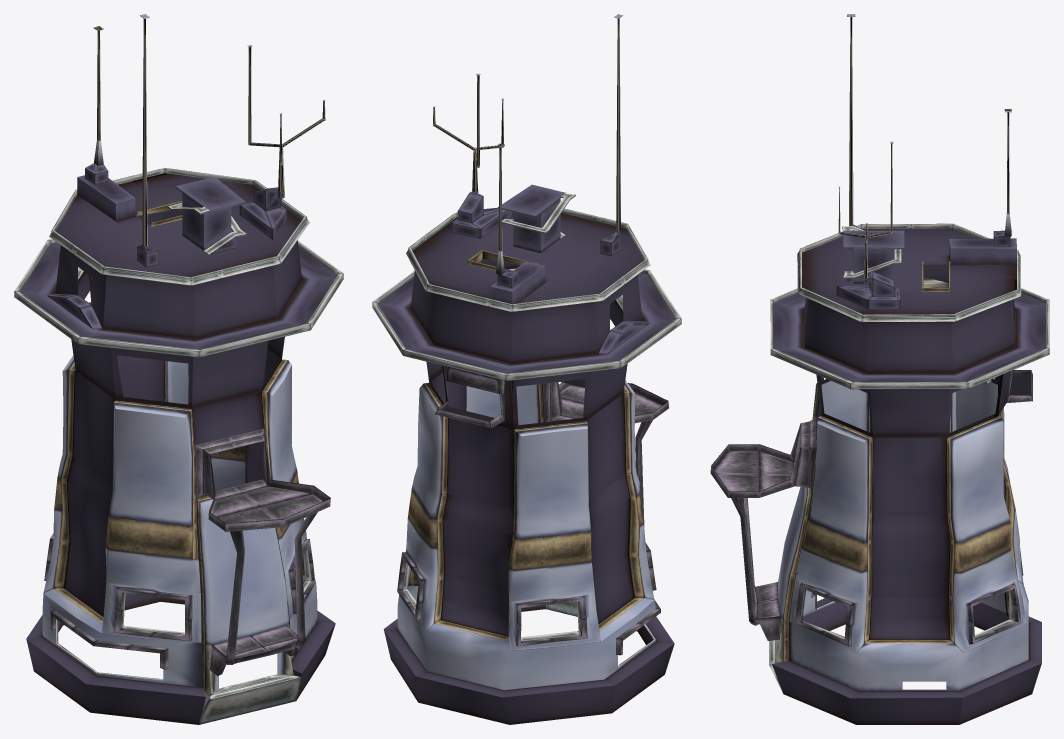
Rendered from octagonal_tower_100m_body_shell.DAE.
3 views of the same model, side by side, from view 1: azimuth 30°, elevation 25°; view 2: azimuth 150°, elevation 25°; view 3: azimuth 270°, elevation 25° (orthographic). The views are drawn at different scales.
Visible parts, largest first — view 1: TowerBodyVisuaExterior; view 2: TowerBodyVisuaExterior; view 3: TowerBodyVisuaExterior.
Part boxes in pixels (x1,y1,x2,y2): TowerBodyVisuaExterior: [14, 14, 343, 724]; TowerBodyVisuaExterior: [372, 14, 681, 724]; TowerBodyVisuaExterior: [710, 14, 1049, 724].
Size of the model in its own units: 62.53 by 155 by 75.62.
